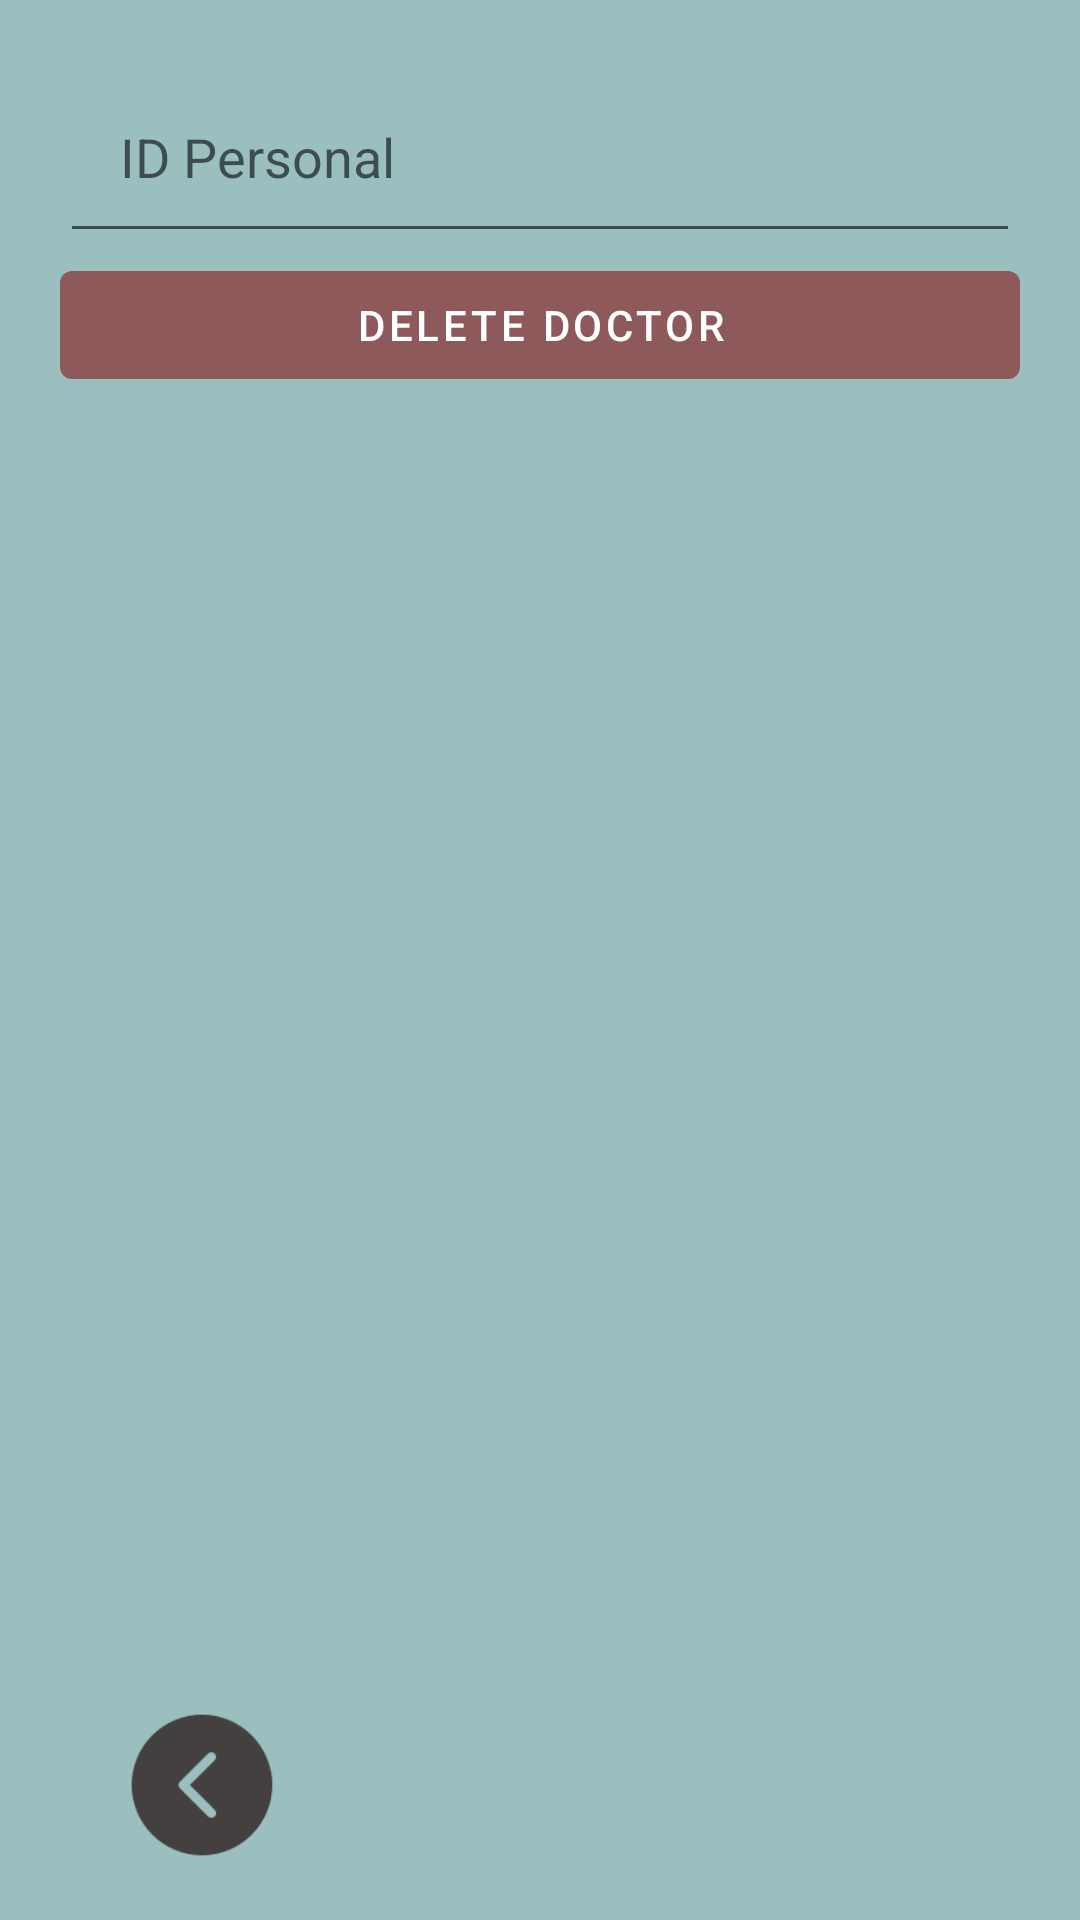

Icon bounding boxes for this 1080w x 1920h phone screenshot, format [x1, y1, x2, y2]:
back: [131, 1714, 273, 1856]
